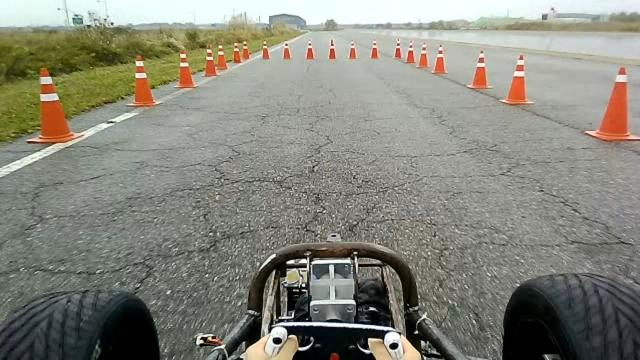red cone: (25, 66, 83, 144), (585, 66, 640, 142), (126, 54, 162, 107), (499, 54, 535, 105), (466, 49, 493, 89), (174, 47, 198, 88), (202, 43, 219, 76), (431, 44, 448, 74), (416, 41, 430, 68), (216, 44, 228, 70), (404, 39, 416, 63), (305, 38, 316, 59), (232, 40, 242, 63), (347, 39, 357, 59), (241, 40, 251, 59), (261, 40, 271, 59), (328, 38, 337, 59), (393, 38, 402, 59), (370, 38, 379, 58), (282, 39, 291, 59)
